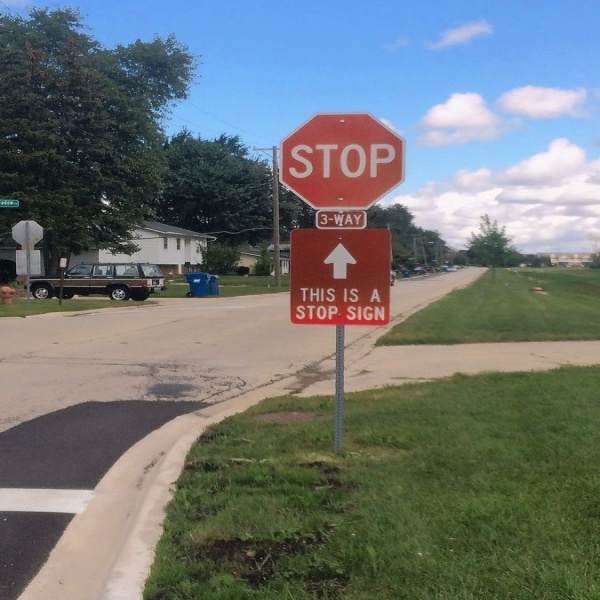stop: (276, 108, 403, 215)
